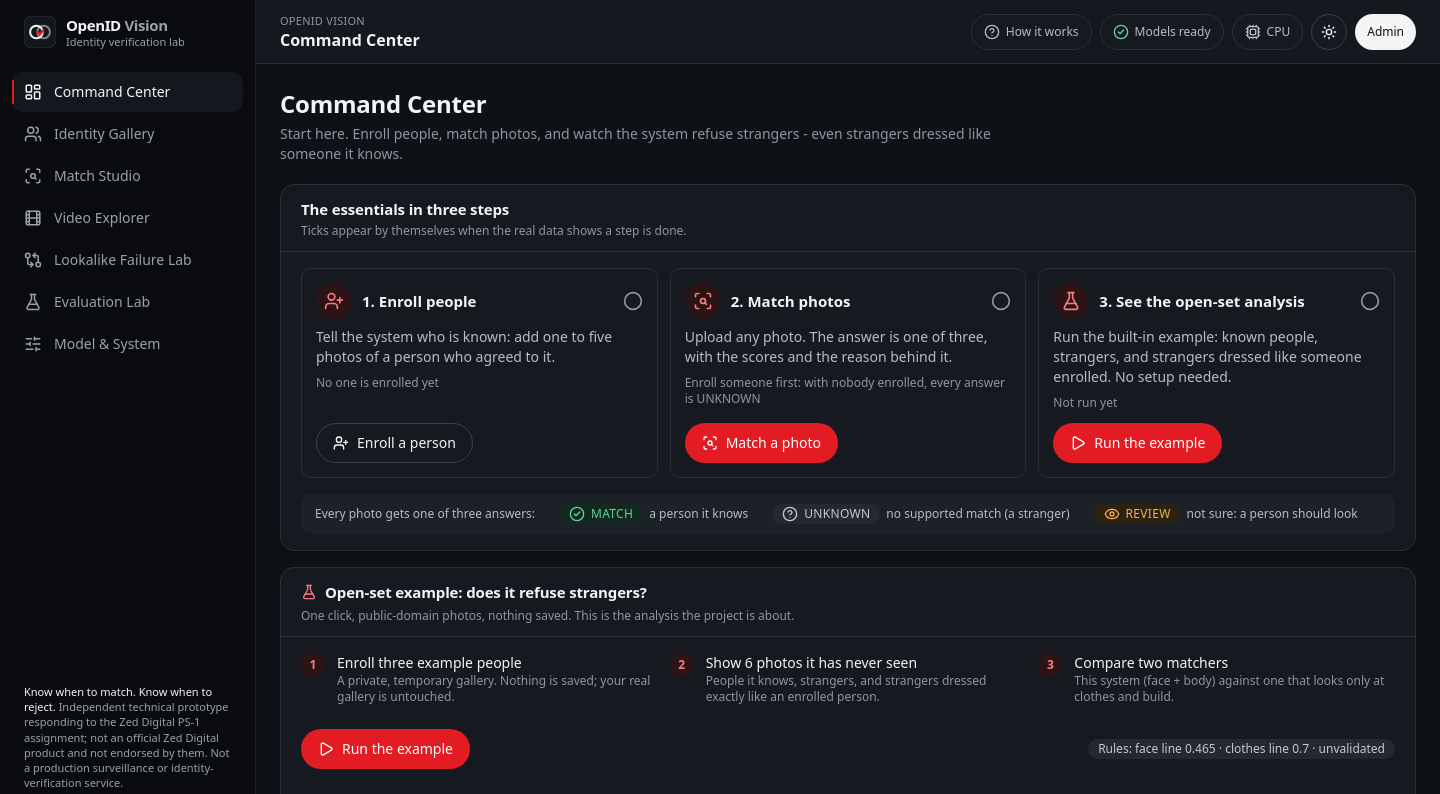
home page: the open-set example › lets you move the face line and shows who would get in
This screenshot has width=1440, height=794.
Click the button "Run the example" below "See the open-set analysis" at (1138,443), box [1053, 423, 1222, 463]
(page scrolled)
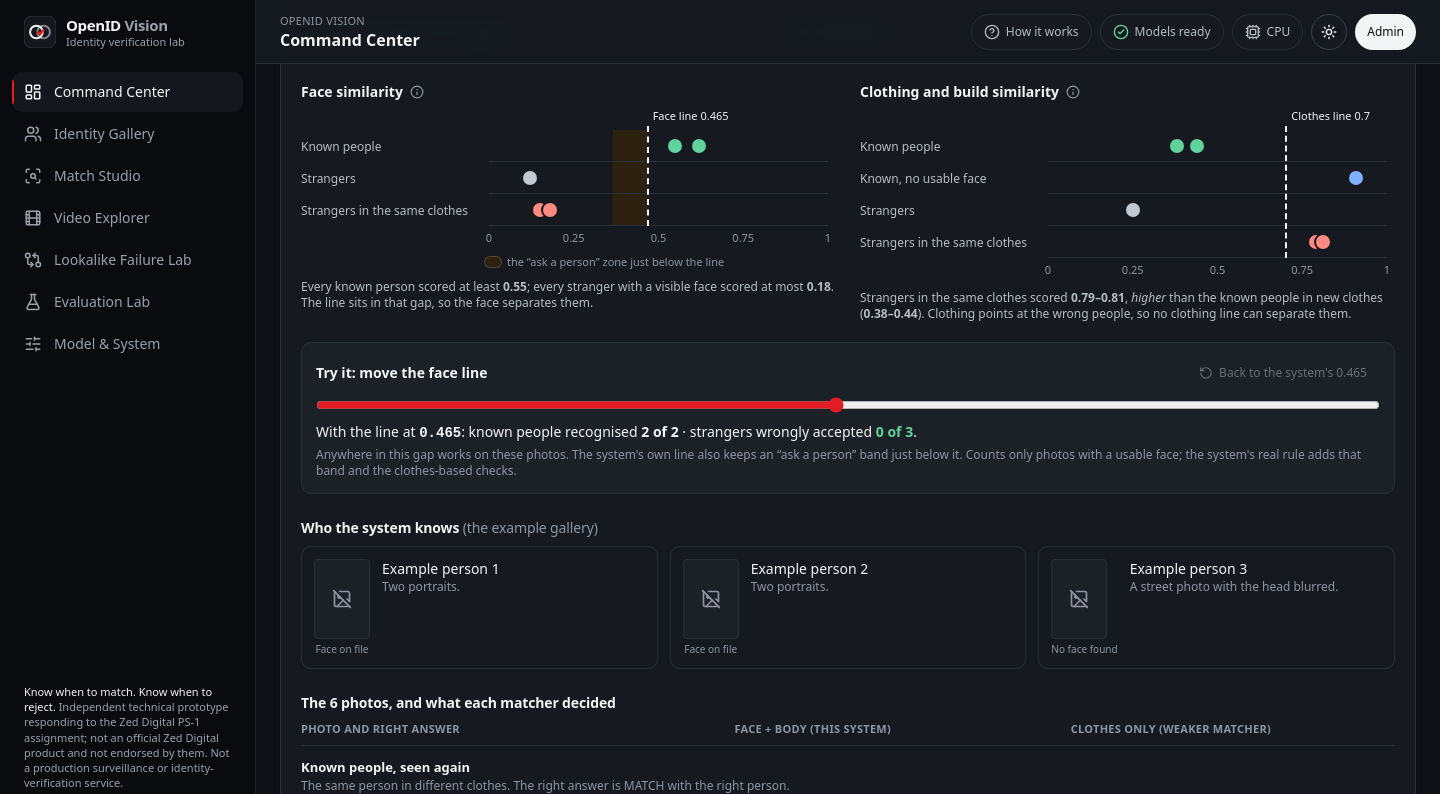
Now the slider labelled "Try it: move the face line" holds "0.465"
Now the text "known people recognised" shows "2 of 2", box [316, 422, 917, 441]
Now the text "known people recognised" shows "strangers wrongly accepted 0 of 3", box [316, 422, 917, 441]
Set the slider labelled "Try it: move the face line" to "0.1" at (386,405), box [316, 397, 1380, 413]
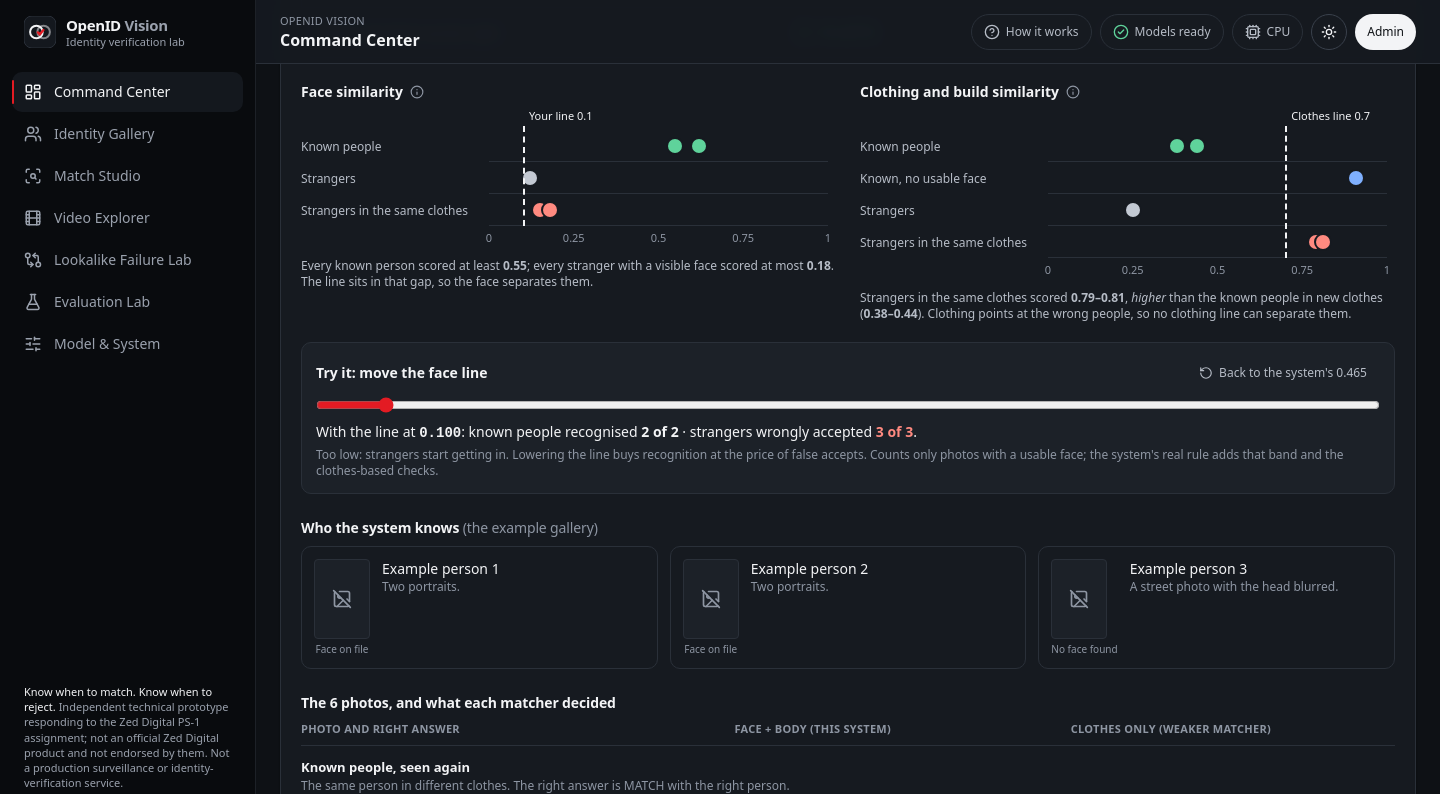
Now the picture named "Face similarity. Known people: 0.62, 0.55; Strangers: 0.12;" is shown, box [301, 106, 836, 250]
Now the text "strangers wrongly accepted" shows "strangers wrongly accepted 3 of 3", box [316, 422, 917, 441]
Now the text "strangers start getting in" is shown, box [316, 446, 867, 463]
Set the slider labelled "Try it: move the face line" to "0.6" at (1002,405), box [316, 397, 1380, 413]
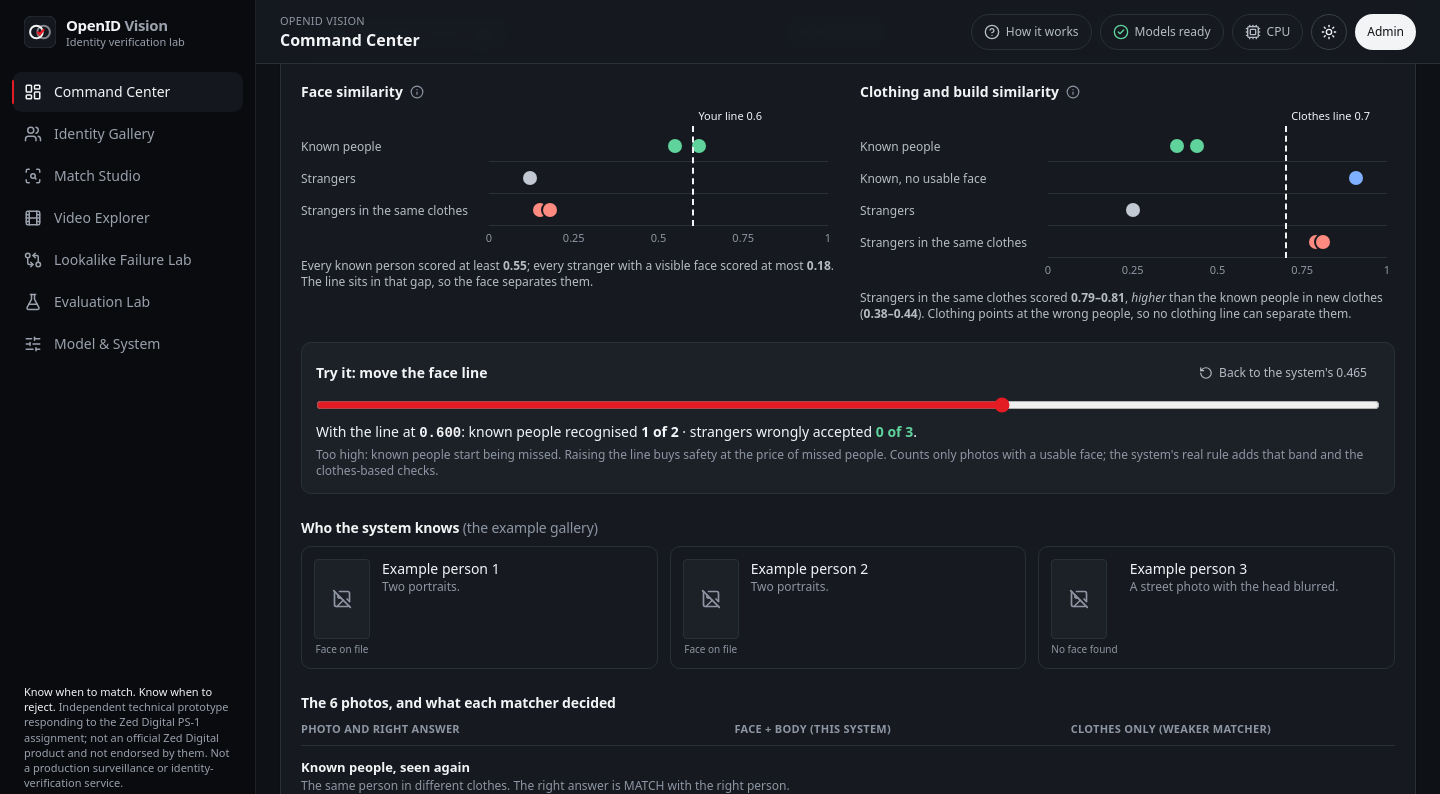
Now the text "known people start being missed" is shown, box [316, 446, 887, 463]
Click the button "Back to the system's 0.465" at (1283,373), box [1186, 357, 1380, 389]
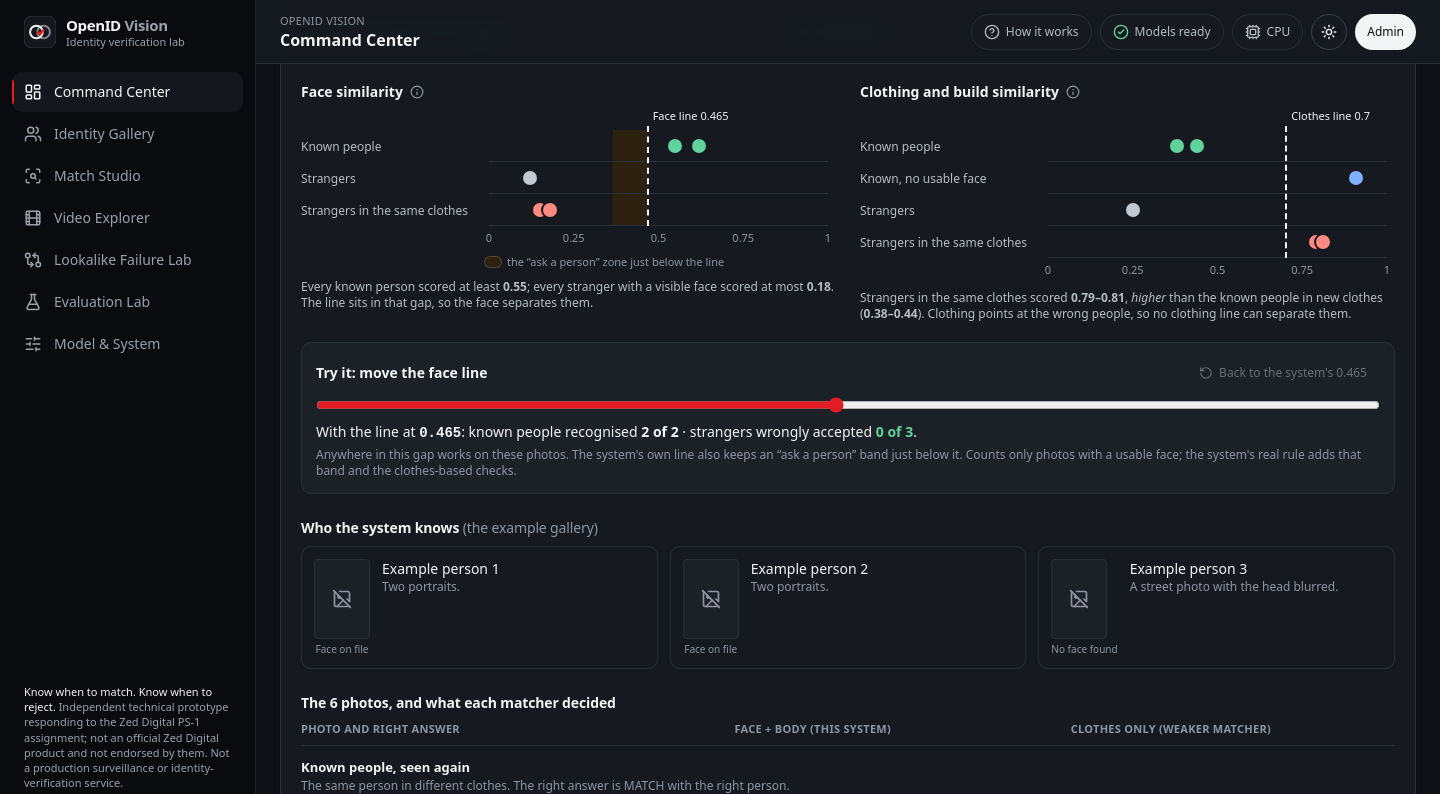
Now the slider labelled "Try it: move the face line" holds "0.465", box [316, 397, 1380, 413]
